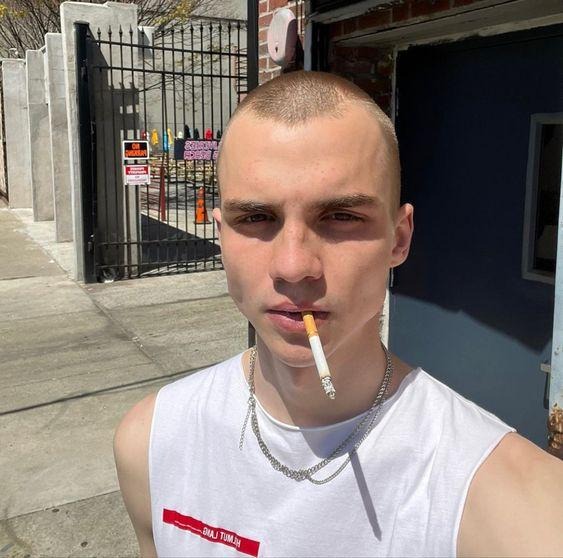cigarette: (300, 311, 337, 400)
